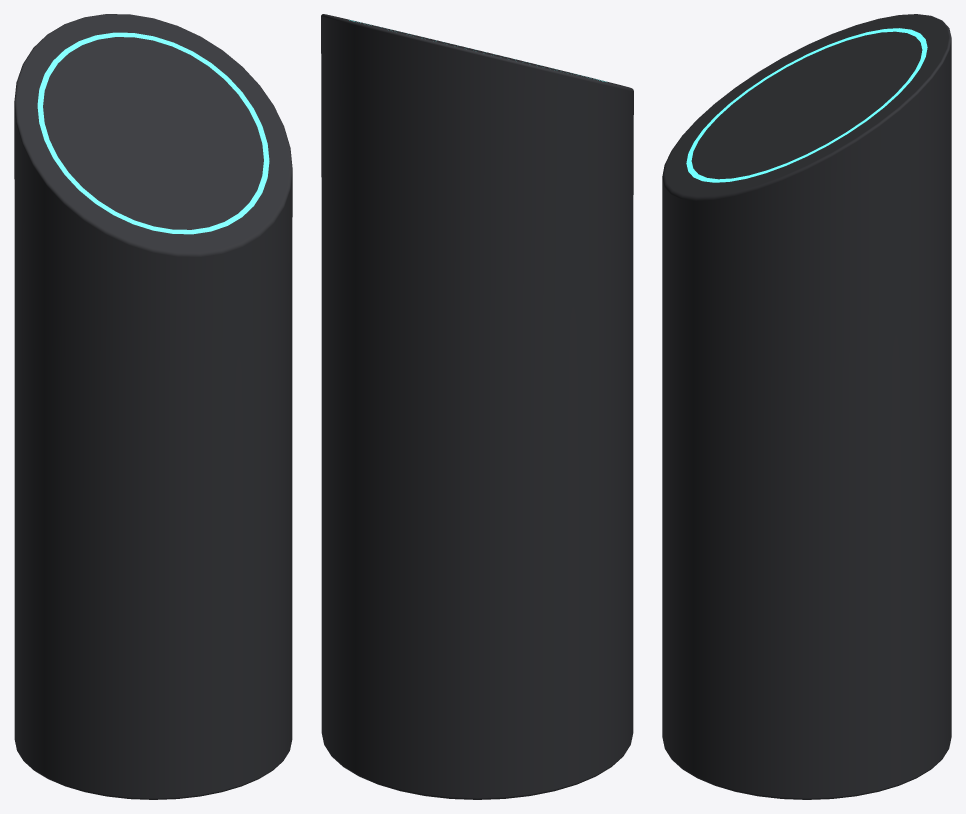
3 renders of one model, left to right at view 1: azimuth 30°, elevation 25°; view 2: azimuth 150°, elevation 25°; view 3: azimuth 270°, elevation 25°, orthographic. The views are drawn at different scales.
Visible parts, largest first — view 1: booth; view 2: booth; view 3: booth.
Boxes of the visible parts, <box> form: booth: <box>14,14,292,799</box>; booth: <box>321,14,633,799</box>; booth: <box>662,14,951,799</box>.
Size of the model in its own units: 44.61 by 119 by 44.49.
